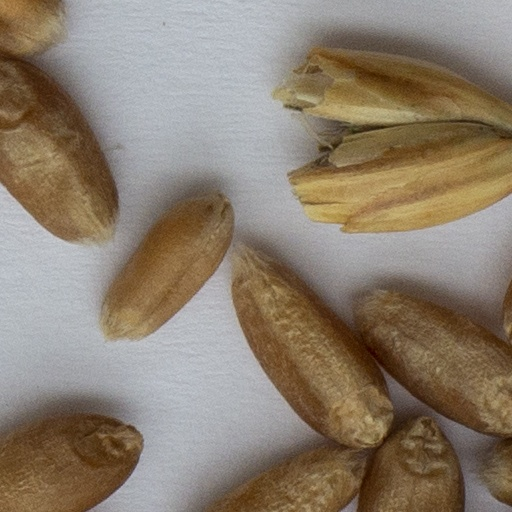Peel-poly: (275, 46, 511, 232)
